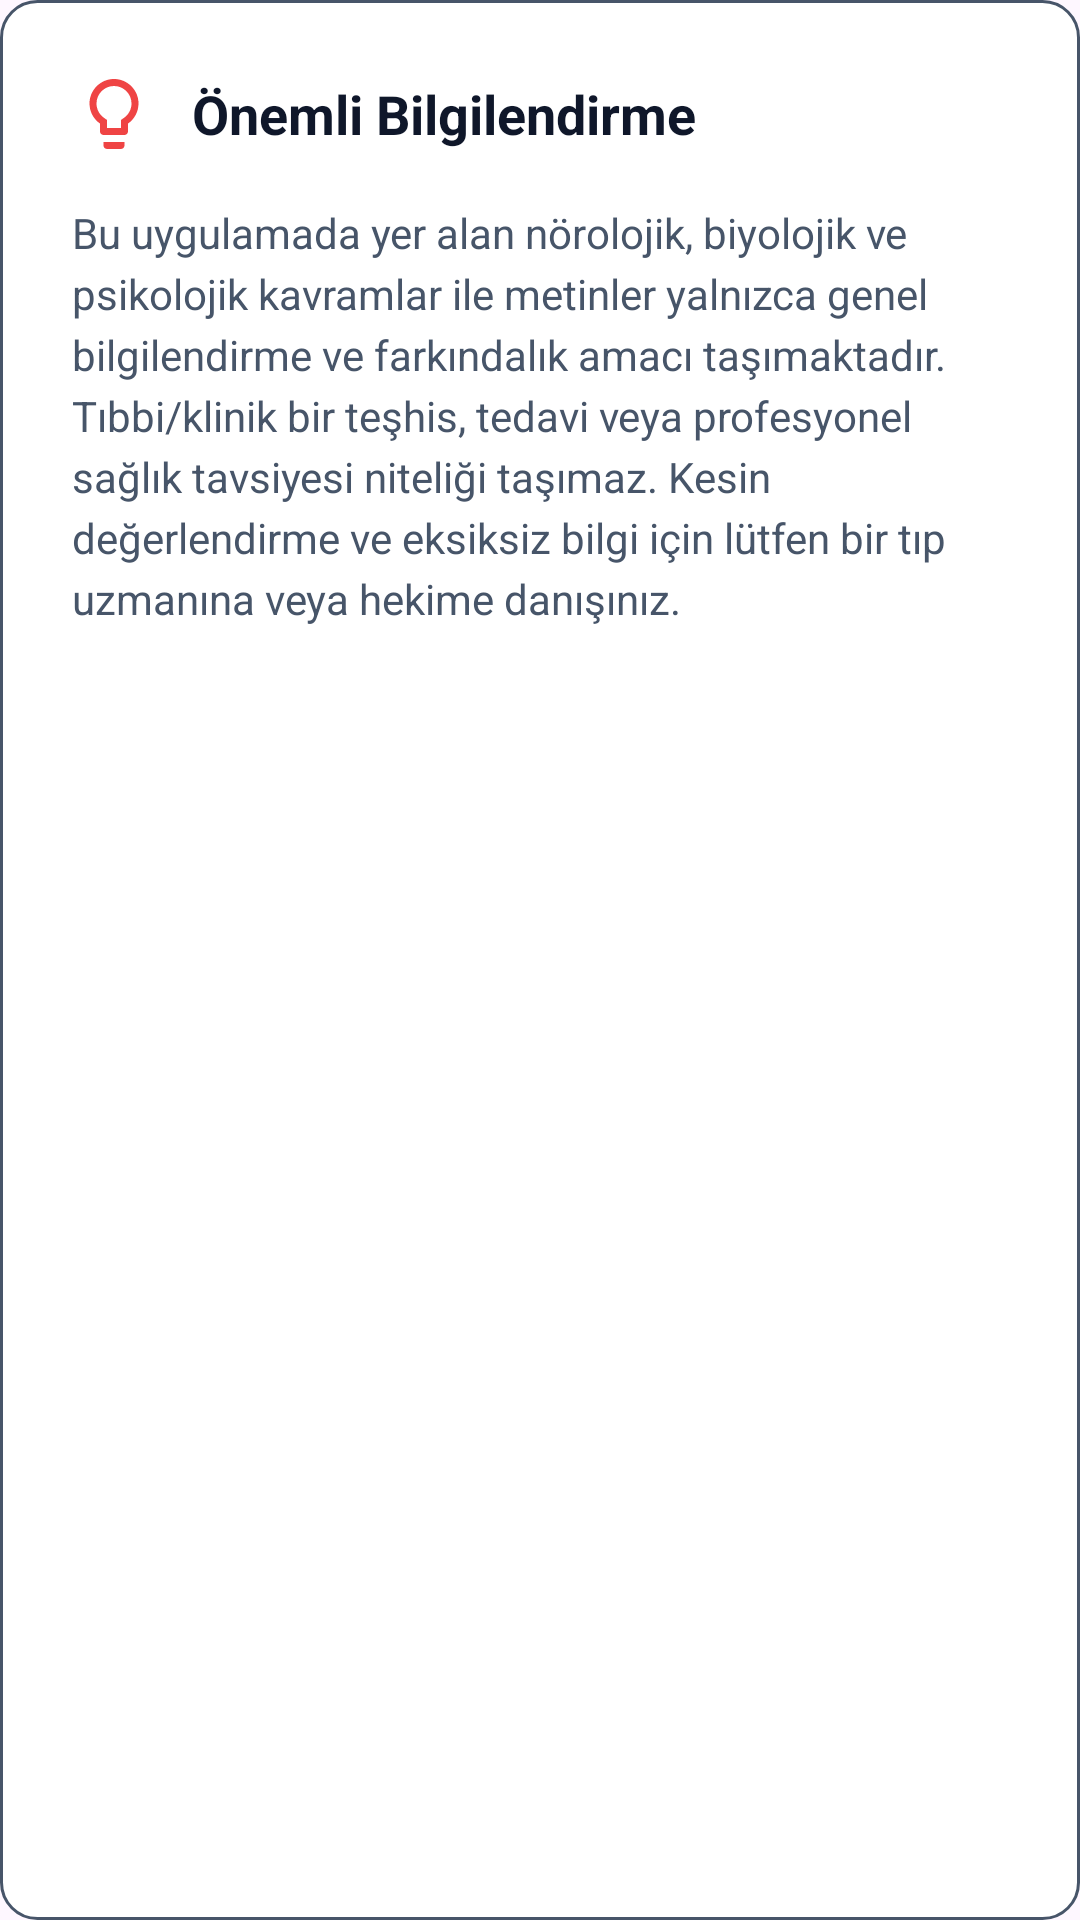

Named icons in this screenshot (1080 × 1920) and their bounding boxes, (x1, y1, x2, y2):
lightbulb: (89, 79, 139, 149)
